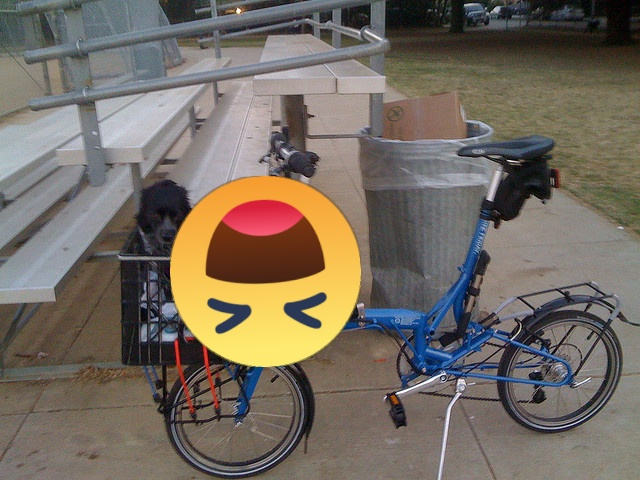haha: (170, 176, 361, 367)
